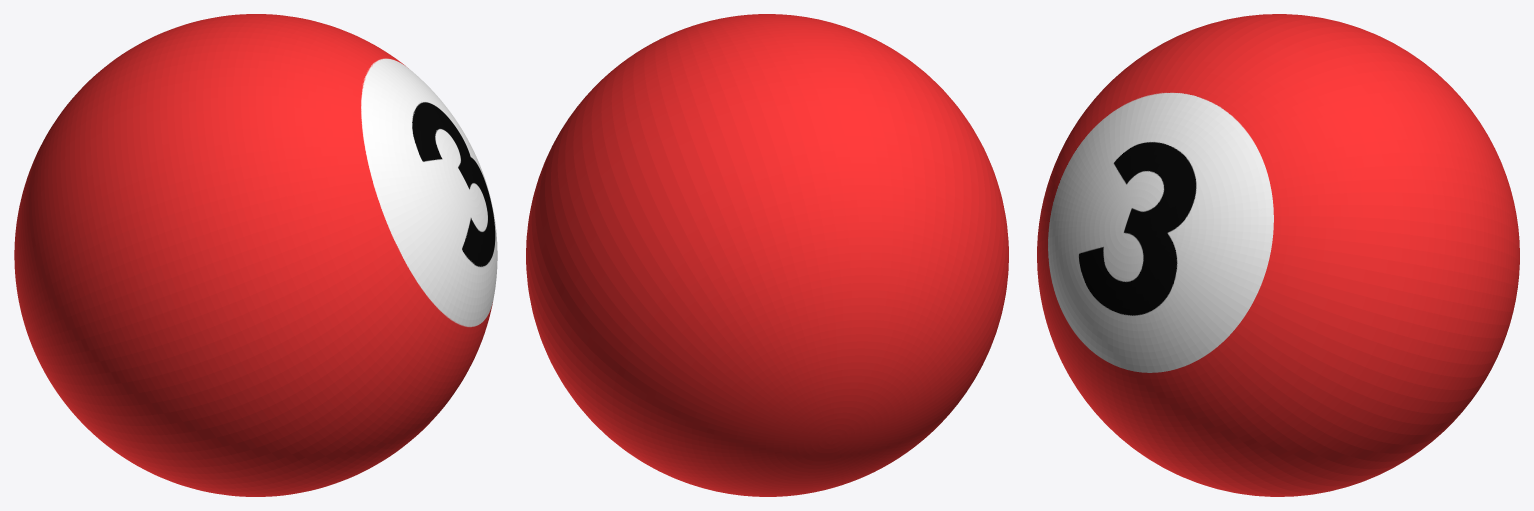
The picture shows the model from 3 angles, left to right: view 1: azimuth 30°, elevation 25°; view 2: azimuth 150°, elevation 25°; view 3: azimuth 270°, elevation 25°; orthographic projection.
Visible parts, largest first — view 1: Sphere; view 2: Sphere; view 3: Sphere.
Part boxes in pixels (box(x1,y1,x2,y2)): Sphere: box(14, 14, 497, 496); Sphere: box(526, 14, 1008, 496); Sphere: box(1037, 14, 1519, 496).
Size of the model in its own units: 3.7 by 3.7 by 3.7.
Materials: 1 (1 with a texture image).
